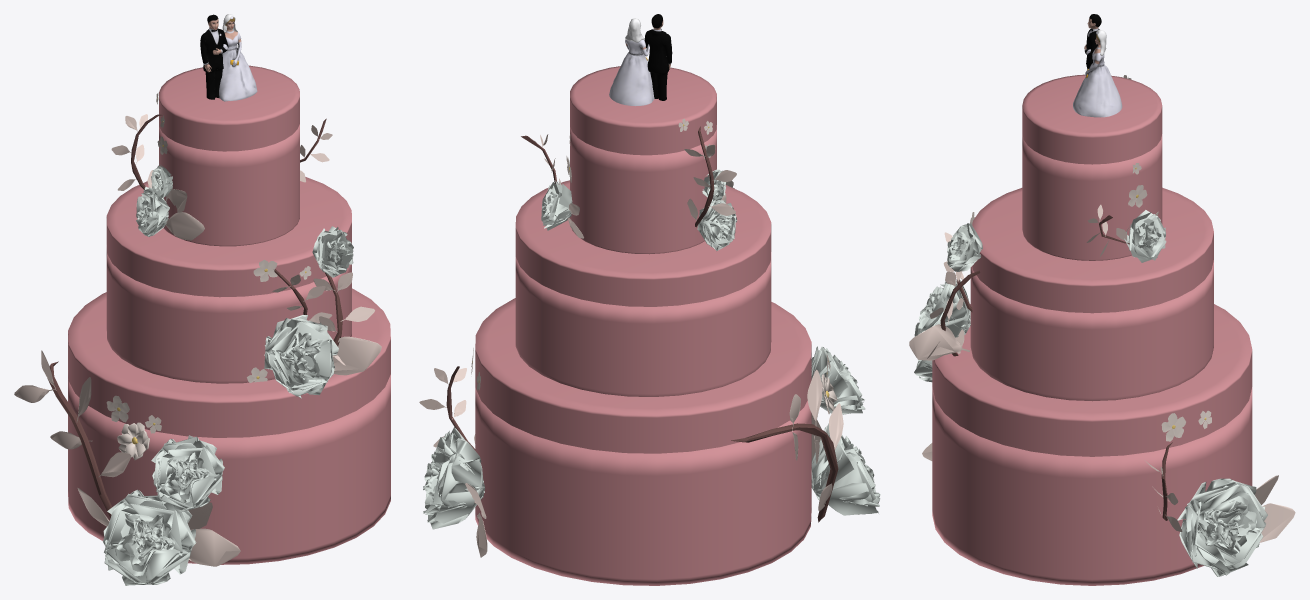
Rendered from 3-tier-blush-roses-bridegroom.glb.
The picture shows the model from 3 angles, left to right: view 1: azimuth 30°, elevation 25°; view 2: azimuth 150°, elevation 25°; view 3: azimuth 270°, elevation 25°; orthographic projection. The views are drawn at different scales.
Visible parts, largest first — view 1: Cylinder.022, Cylinder.014, Cylinder.021, grid.042, grid.044, grid.040, Plane.093, 13501_Cake_Topper_Bride_Groom_v1_L1.002, grid.043, Plane.087, Plane.091, Plane.095 (+7 smaller); view 2: Cylinder.022, Cylinder.014, Cylinder.021, grid.029, 13501_Cake_Topper_Bride_Groom_v1_L1.002, grid.042, Plane.093, grid.040, grid.045, Plane.092, grid.047, Plane.084; view 3: Cylinder.022, Cylinder.014, Cylinder.021, grid.029, 13501_Cake_Topper_Bride_Groom_v1_L1.002, grid.044, grid.047, Plane.087, grid.043, Plane.095, Plane.082, Plane.084 (+1 smaller).
Part boxes in pixels (left/top/right/bottom): Cylinder.022: left=68, top=288, right=390, bottom=564; Cylinder.014: left=106, top=177, right=351, bottom=383; Cylinder.021: left=159, top=65, right=299, bottom=246; grid.042: left=103, top=489, right=196, bottom=585; grid.044: left=264, top=314, right=338, bottom=398; grid.040: left=151, top=435, right=224, bottom=512; Plane.093: left=14, top=350, right=131, bottom=526; 13501_Cake_Topper_Bride_Groom_v1_L1.002: left=200, top=14, right=257, bottom=101; grid.043: left=312, top=226, right=353, bottom=277; Plane.087: left=333, top=336, right=381, bottom=375; Plane.091: left=189, top=528, right=240, bottom=566; Plane.095: left=313, top=272, right=374, bottom=365; Cylinder.022: left=475, top=298, right=811, bottom=585; Cylinder.014: left=515, top=180, right=771, bottom=396; Cylinder.021: left=570, top=66, right=716, bottom=254; grid.029: left=423, top=427, right=484, bottom=529; 13501_Cake_Topper_Bride_Groom_v1_L1.002: left=609, top=14, right=672, bottom=106; grid.042: left=811, top=423, right=880, bottom=515; Plane.093: left=731, top=369, right=843, bottom=522; grid.040: left=811, top=346, right=865, bottom=414; grid.045: left=697, top=200, right=737, bottom=250; Plane.092: left=684, top=126, right=736, bottom=227; grid.047: left=541, top=180, right=572, bottom=230; Plane.084: left=419, top=366, right=475, bottom=450; Cylinder.022: left=932, top=304, right=1252, bottom=585; Cylinder.014: left=970, top=187, right=1213, bottom=401; Cylinder.021: left=1022, top=74, right=1162, bottom=260; grid.029: left=1177, top=478, right=1267, bottom=576; 13501_Cake_Topper_Bride_Groom_v1_L1.002: left=1073, top=14, right=1122, bottom=117; grid.044: left=914, top=279, right=970, bottom=337; grid.047: left=1124, top=210, right=1166, bottom=262; Plane.087: left=909, top=324, right=969, bottom=360; grid.043: left=947, top=223, right=982, bottom=271; Plane.095: left=927, top=270, right=980, bottom=358; Plane.082: left=1259, top=503, right=1295, bottom=542; Plane.084: left=1144, top=442, right=1182, bottom=531.
Size of the model in its own units: 5.28 by 6.96 by 4.9.
Materials: 7 (1 with a texture image).
